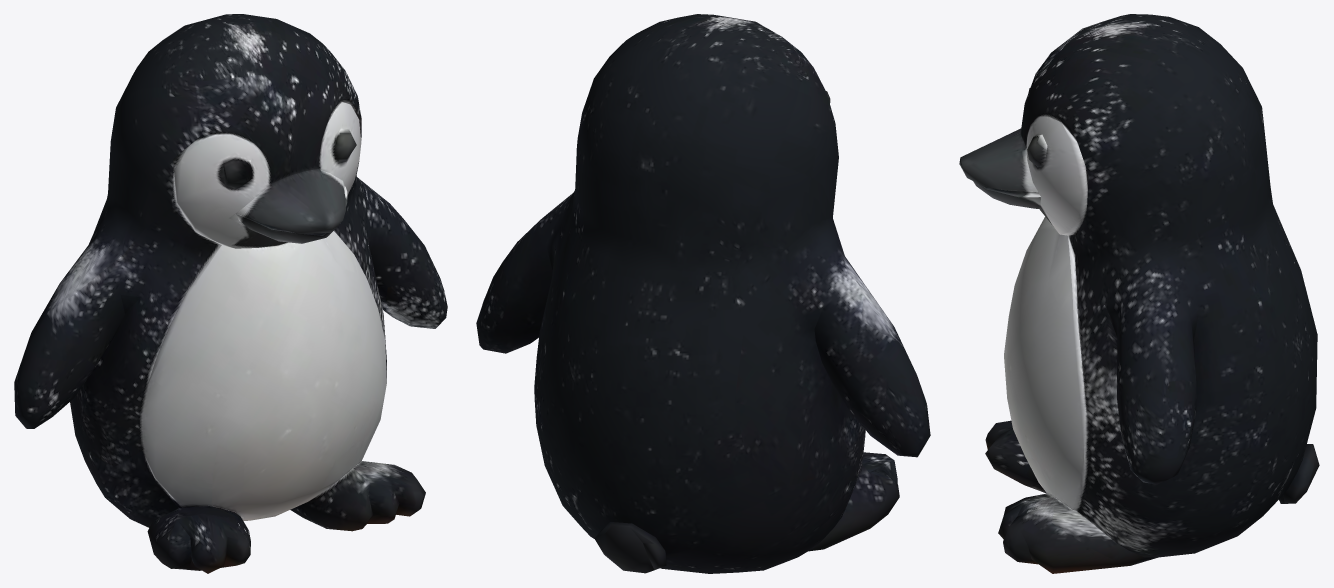
The model's file is m2PenguinDropTarget.glb.
3 views of the same model, side by side, from view 1: azimuth 30°, elevation 25°; view 2: azimuth 150°, elevation 25°; view 3: azimuth 270°, elevation 25° (orthographic). The views are drawn at different scales.
Parts seen in each view (by area): view 1: model; view 2: model; view 3: model.
Part boxes in pixels (x1,y1,x2,y2): model: (14, 14, 447, 573); model: (476, 14, 930, 573); model: (959, 14, 1319, 573).
Bounding box in the file's own units: 1.72 × 1.89 × 1.25.
Materials: 1 (1 with a texture image).
